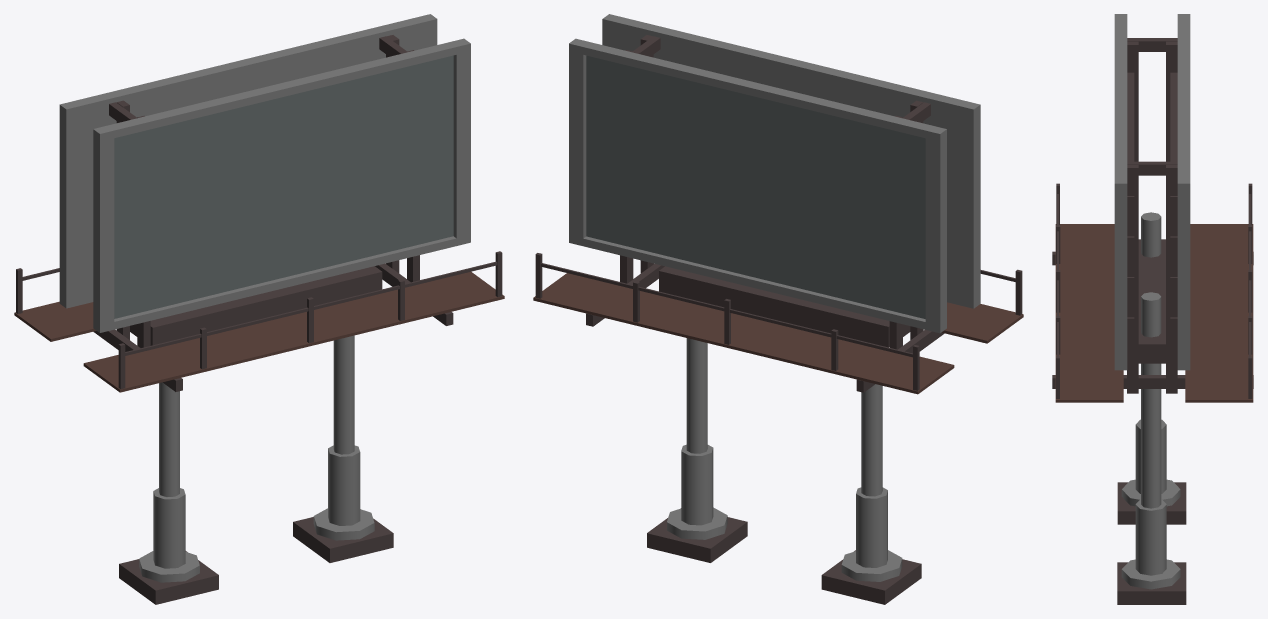
3 renders of one model, left to right at view 1: azimuth 30°, elevation 25°; view 2: azimuth 150°, elevation 25°; view 3: azimuth 270°, elevation 25°, orthographic. The views are drawn at different scales.
Visible parts, largest first — view 1: SM_BillBoard:SM_BillBoard1; view 2: SM_BillBoard:SM_BillBoard1; view 3: SM_BillBoard:SM_BillBoard1.
Part boxes in pixels (x1=…): SM_BillBoard:SM_BillBoard1: x1=14, y1=14, x2=504, y2=604; SM_BillBoard:SM_BillBoard1: x1=533, y1=14, x2=1023, y2=604; SM_BillBoard:SM_BillBoard1: x1=1052, y1=14, x2=1253, y2=604.
Size of the model in its own units: 9.7 by 11.73 by 4.69.
